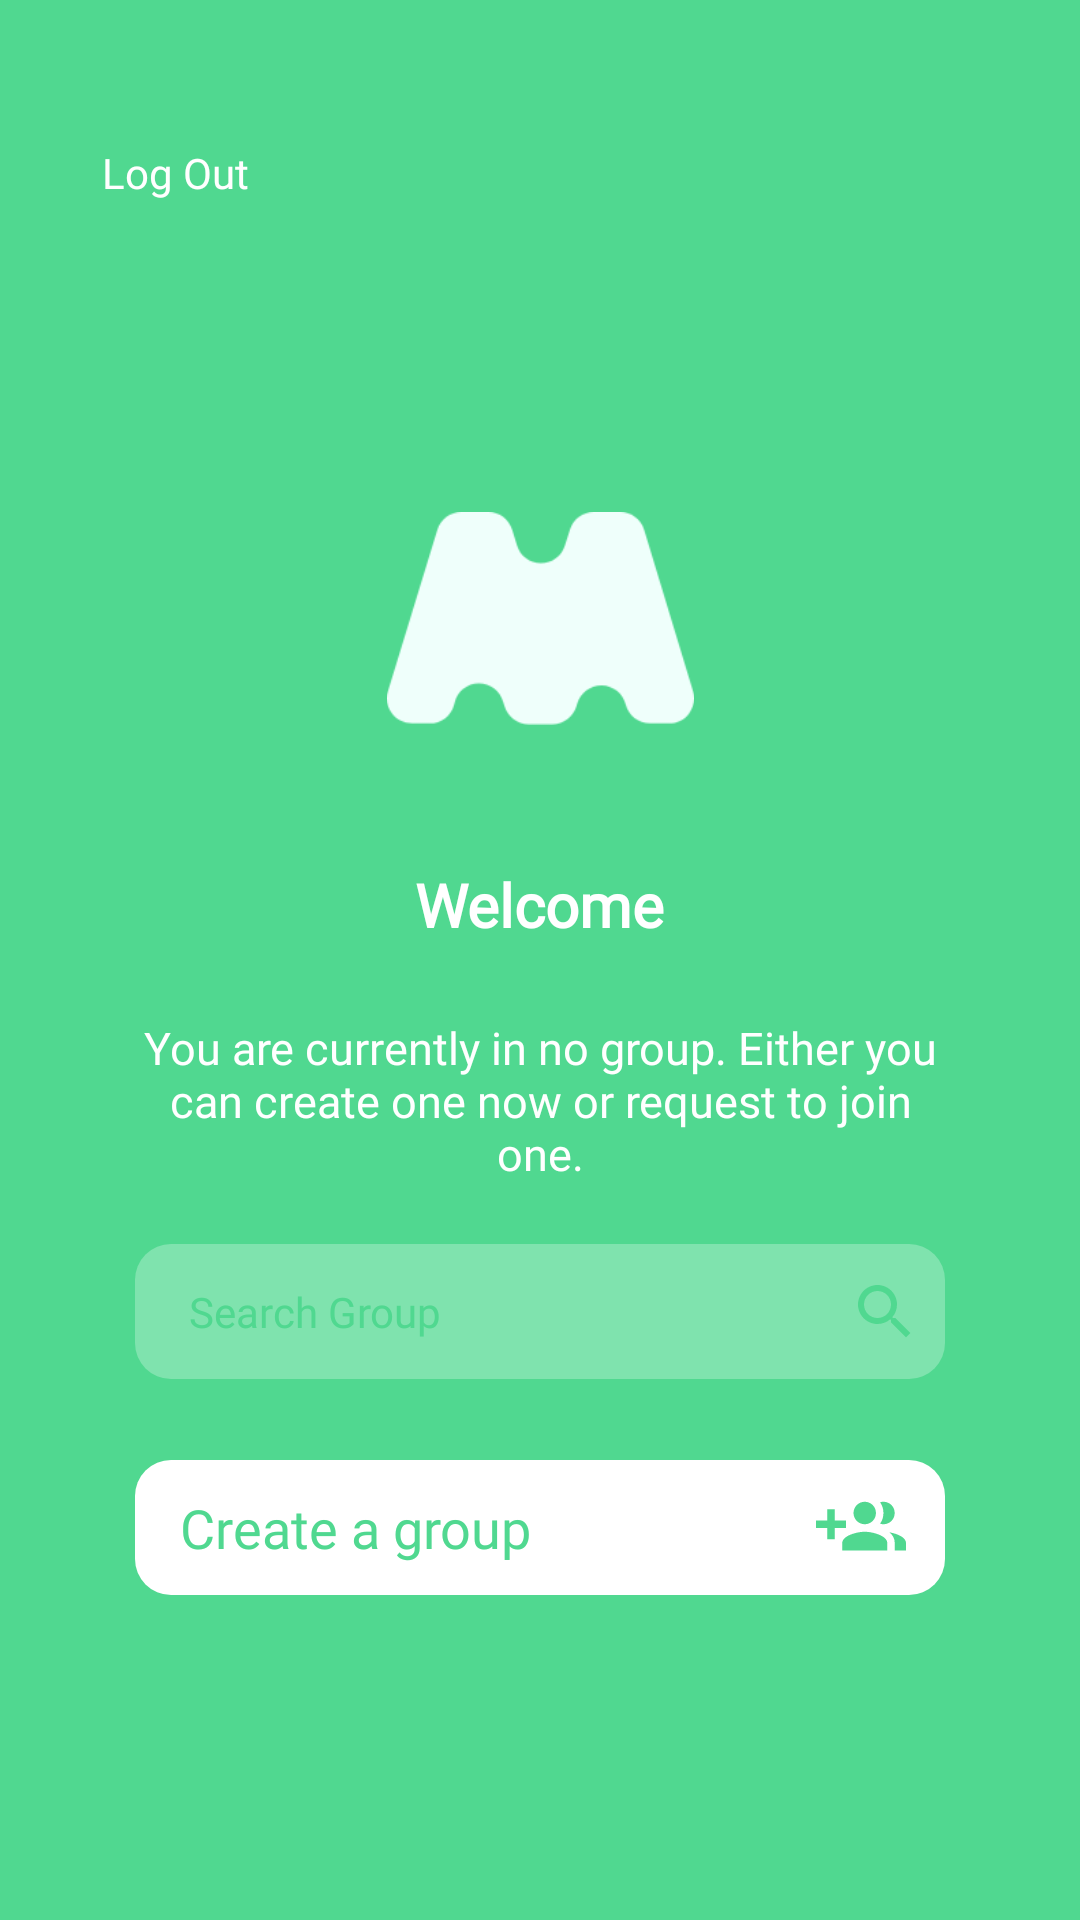

Named icons in this screenshot (1080 x 1920) and their centers, (x=x, y=y):
add group: (x=861, y=1526)
group search: (x=884, y=1311)
